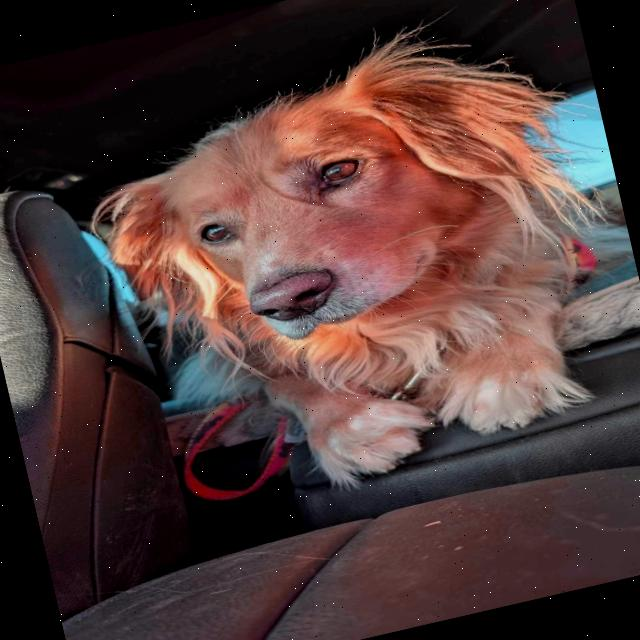golden_retriever_dog: (53, 0, 619, 413)
